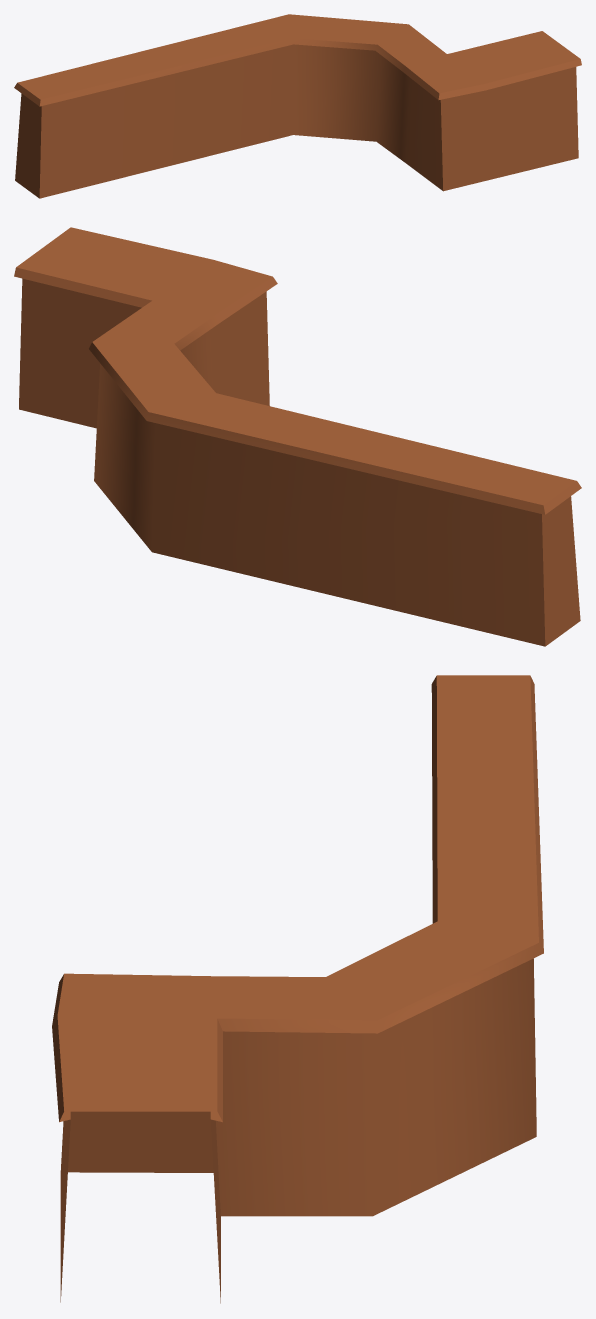
Rendered from Bar.fbx.
3 renders of one model, top to bottom at view 1: azimuth 30°, elevation 25°; view 2: azimuth 150°, elevation 25°; view 3: azimuth 270°, elevation 25°, orthographic. The views are drawn at different scales.
Visible parts, largest first — view 1: Bar; view 2: Bar; view 3: Bar.
Part boxes in pixels (x1=…): Bar: x1=14, y1=14, x2=581, y2=198; Bar: x1=14, y1=227, x2=581, y2=646; Bar: x1=52, y1=675, x2=543, y2=1303.
Size of the model in its own units: 385 by 80.31 by 183.
